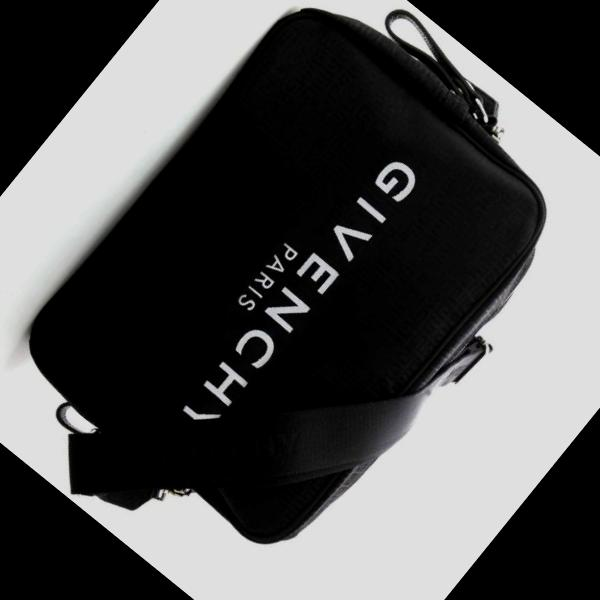GIVENCHY: (158, 136, 439, 460)
